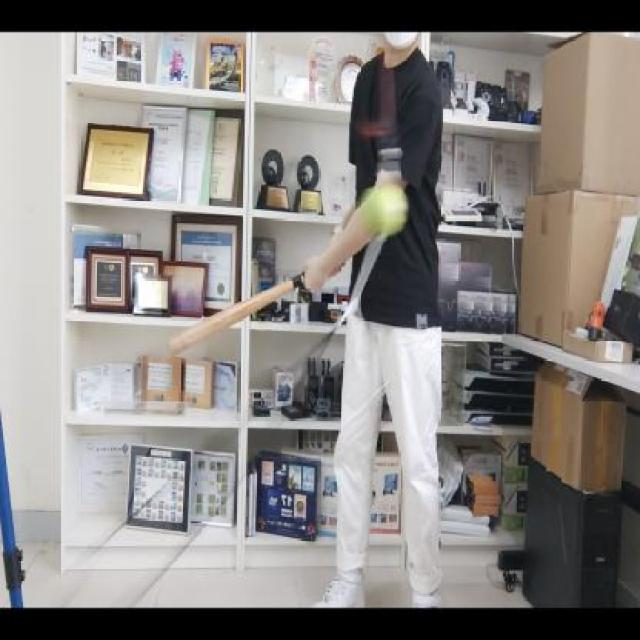baseball: (362, 178, 408, 238)
